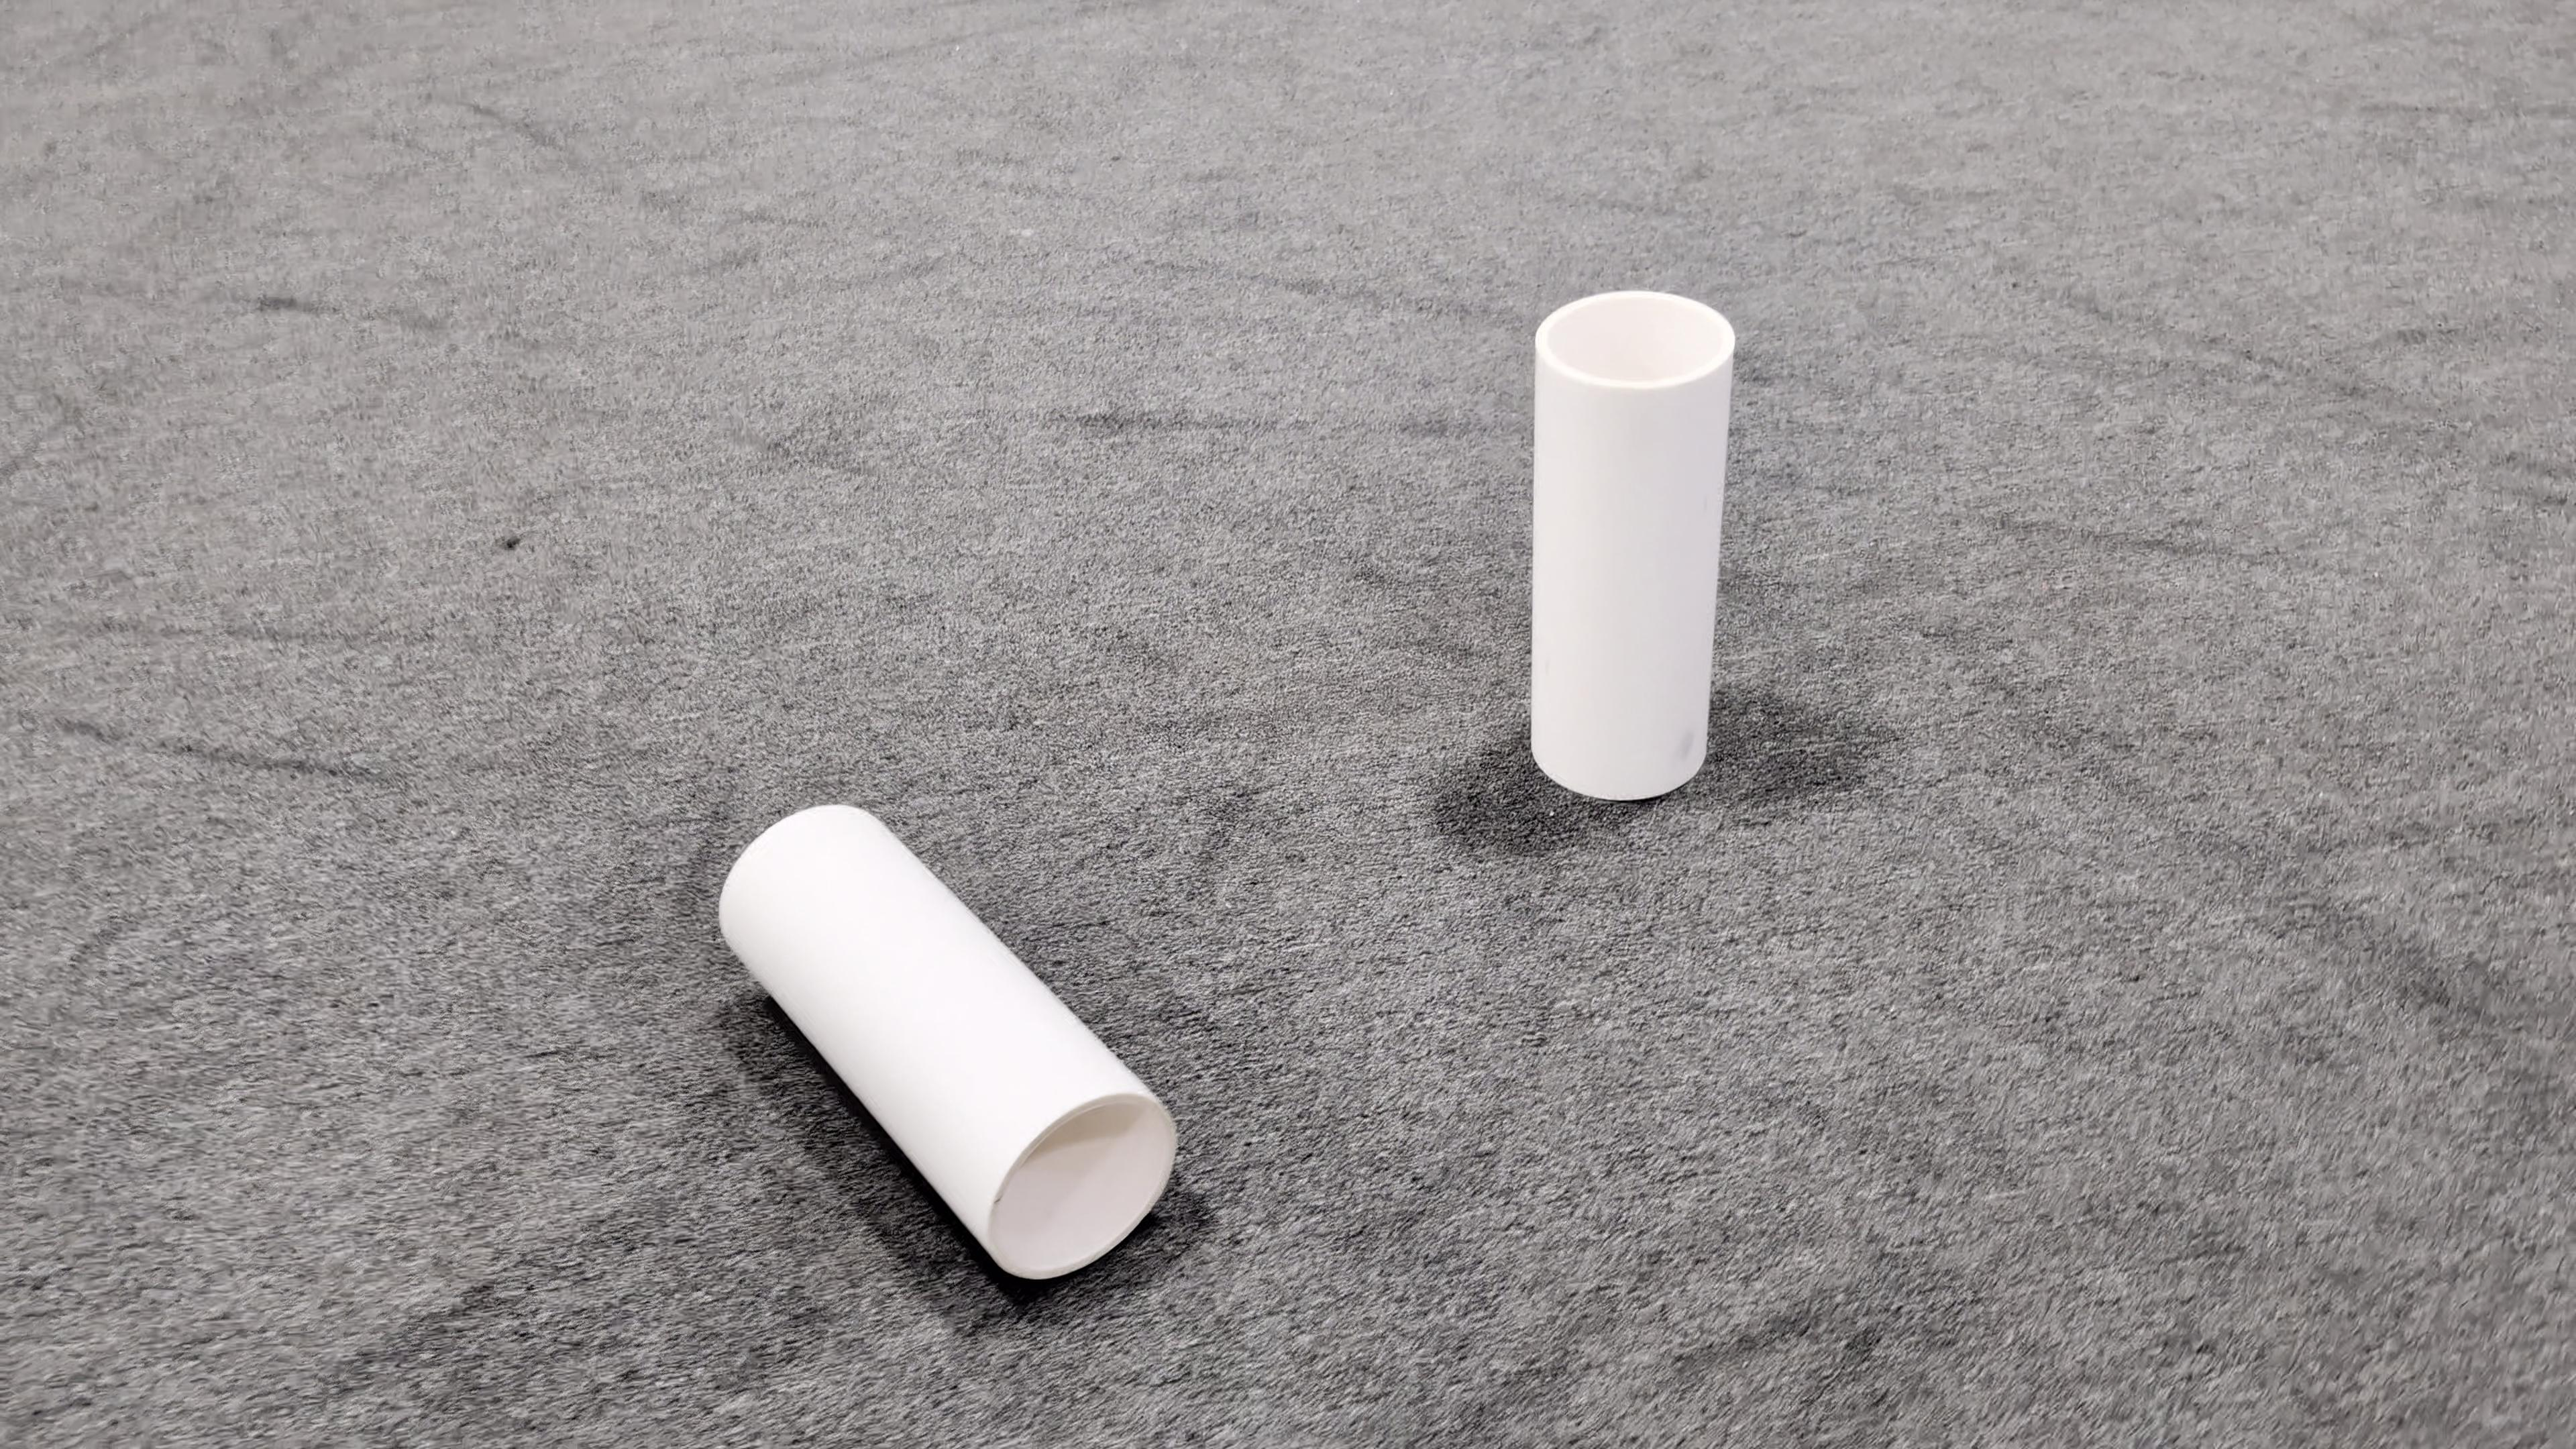coral: (720, 805, 1182, 1277), (1530, 292, 1736, 800)
